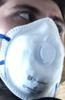with_mask: (2, 1, 65, 100)
